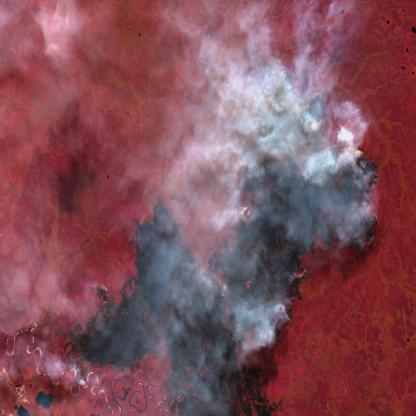fire: (235, 59, 383, 352)
